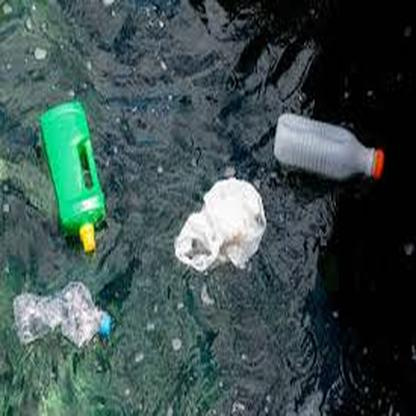plastic bag: (171, 175, 265, 273)
plastic bottle: (38, 100, 107, 251), (275, 112, 384, 184), (10, 282, 115, 345)
